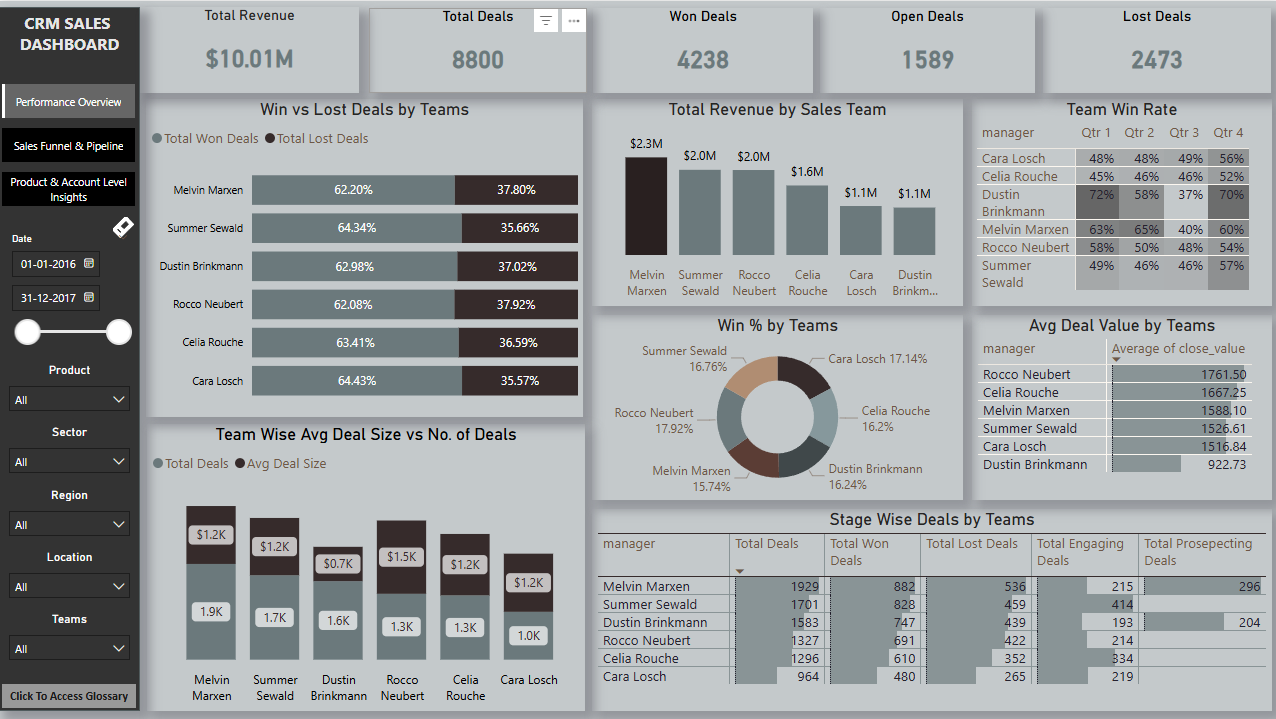

Layout of this report page (visuals, bound fields, positions):
{"tool":"powerbi","page":{"name":"Performance Overview","canvas":[1280,720],"ordinal":0},"visuals":[{"type":"shape","box":[0,0,141,720],"z":0},{"type":"card","title":"Total Revenue","fields":{"Values":["sales_pipeline.Total Revenue"]},"box":[148,6,214,86],"z":1000},{"type":"card","title":"Total Deals","fields":{"Values":["sales_pipeline.Total Deals"]},"box":[372,6.7,217.8,85.6],"z":2000},{"type":"card","title":"Won Deals","fields":{"Values":["sales_pipeline.Total Won Deals"]},"box":[596.4,6.7,220,85.6],"z":3000},{"type":"hundredPercentStackedBarChart","title":"Win vs Lost Deals by Teams","fields":{"Y":["sales_pipeline.Total Won Deals","sales_pipeline.Total Lost Deals"],"Category":["sales_teams.manager"]},"box":[146.7,97.8,437.8,317.8],"z":4000},{"type":"clusteredColumnChart","title":"Total Revenue by Sales Team","fields":{"Category":["sales_teams.manager"],"Y":["sales_pipeline.Total Revenue"]},"box":[593,98,371,207],"z":5000},{"type":"lineStackedColumnComboChart","title":"Team Wise Avg Deal Size vs No. of Deals","fields":{"Category":["sales_teams.manager"],"Y":["sales_pipeline.Total Deals","sales_pipeline.Avg Deal Size"]},"box":[148,423,438,284],"z":6000},{"type":"tableEx","title":"Stage Wise Deals by Teams","fields":{"Values":["sales_teams.manager","sales_pipeline.Total Deals","sales_pipeline.Total Won Deals","sales_pipeline.Total Lost Deals","sales_pipeline.Total Engaging Deals","sales_pipeline.Total Prosepecting Deals"]},"box":[593,508,680,199],"z":7000},{"type":"tableEx","title":"Avg Deal Value by Teams","fields":{"Values":["sales_teams.manager","Avg(sales_pipeline.close_value)"]},"box":[973,314,300,185],"z":8000},{"type":"pivotTable","title":"Team Win Rate ","fields":{"Rows":["sales_teams.manager"],"Values":["sales_pipeline.Win %"],"Columns":["calendar.Date.Variation.Date Hierarchy.Year","calendar.Date.Variation.Date Hierarchy.Quarter","calendar.Date.Variation.Date Hierarchy.Month","calendar.Date.Variation.Date Hierarchy.Day"]},"box":[973,98,300,207],"z":9000},{"type":"actionButton","title":"Rset1","box":[107.8,210,38.9,33.3],"z":10000},{"type":"textbox","box":[0,0,141,62],"z":11000},{"type":"pageNavigator","box":[3,71,133,127],"z":12000},{"type":"card","title":"Lost Deals","fields":{"Values":["sales_pipeline.Total Lost Deals"]},"box":[1046,7,227,85],"z":13000},{"type":"card","title":"Open Deals","fields":{"Values":["sales_pipeline.Total Engaging Deals"]},"box":[823.1,6.7,214.4,85.6],"z":14000},{"type":"actionButton","box":[4,693,134,24],"z":15000},{"type":"slicer","title":"Sector","fields":{"Values":["accounts.sector"]},"box":[0,424.4,140.6,62.4],"z":16000},{"type":"slicer","title":"Region","fields":{"Values":["sales_teams.regional_office"]},"box":[0,486.7,140.6,62.4],"z":17000},{"type":"slicer","title":"Product","fields":{"Values":["products.product"]},"box":[0,362,140.6,62.4],"z":18000},{"type":"slicer","title":"Location","fields":{"Values":["accounts.office_location"]},"box":[0,549.1,140.6,62.4],"z":19000},{"type":"donutChart","title":"Win % by Teams","fields":{"Y":["sales_pipeline.Win %"],"Category":["sales_teams.manager"]},"box":[593,314,371,185],"z":20000},{"type":"slicer","title":"Teams","fields":{"Values":["sales_teams.manager"]},"box":[0,611.2,141.1,62.2],"z":21000},{"type":"slicer","fields":{"Values":["calendar.Date"]},"box":[0,222,141,128],"z":22000}]}

Visuals, with their boxes in screenshot pixels (x1, y1, x2, y2), scaled from the page's 1280x720 canvas onto the 1276x719 screenshot:
shape: <box>0,0,141,718</box>
"Total Revenue" card: <box>148,6,361,92</box>
"Total Deals" card: <box>371,7,588,92</box>
"Won Deals" card: <box>595,7,814,92</box>
"Win vs Lost Deals by Teams" hundredPercentStackedBarChart: <box>146,98,583,415</box>
"Total Revenue by Sales Team" clusteredColumnChart: <box>591,98,961,305</box>
"Team Wise Avg Deal Size vs No. of Deals" lineStackedColumnComboChart: <box>148,422,584,706</box>
"Stage Wise Deals by Teams" tableEx: <box>591,507,1269,706</box>
"Avg Deal Value by Teams" tableEx: <box>970,314,1269,498</box>
"Team Win Rate " pivotTable: <box>970,98,1269,305</box>
"Rset1" actionButton: <box>107,210,146,243</box>
textbox: <box>0,0,141,62</box>
pageNavigator: <box>3,71,136,198</box>
"Lost Deals" card: <box>1043,7,1269,92</box>
"Open Deals" card: <box>821,7,1034,92</box>
actionButton: <box>4,692,138,716</box>
"Sector" slicer: <box>0,424,140,486</box>
"Region" slicer: <box>0,486,140,548</box>
"Product" slicer: <box>0,361,140,424</box>
"Location" slicer: <box>0,548,140,611</box>
"Win % by Teams" donutChart: <box>591,314,961,498</box>
"Teams" slicer: <box>0,610,141,672</box>
slicer - calendar.Date: <box>0,222,141,350</box>
